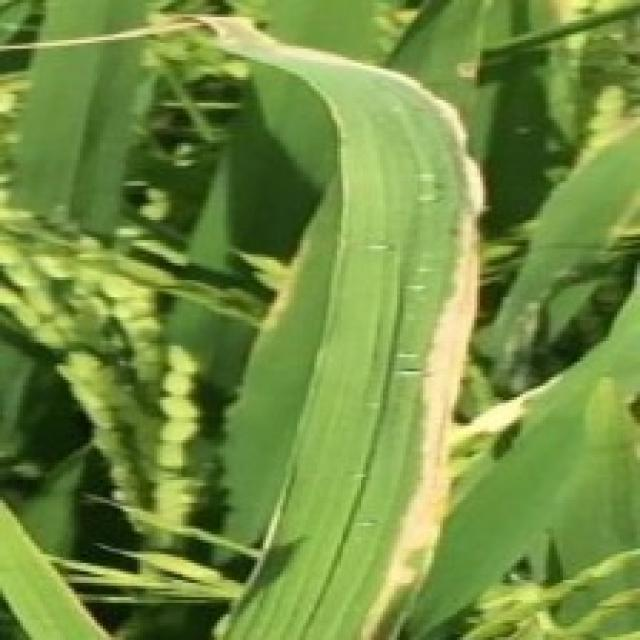Rice___Bacterial_Leaf_Blight: (0, 12, 489, 637)
